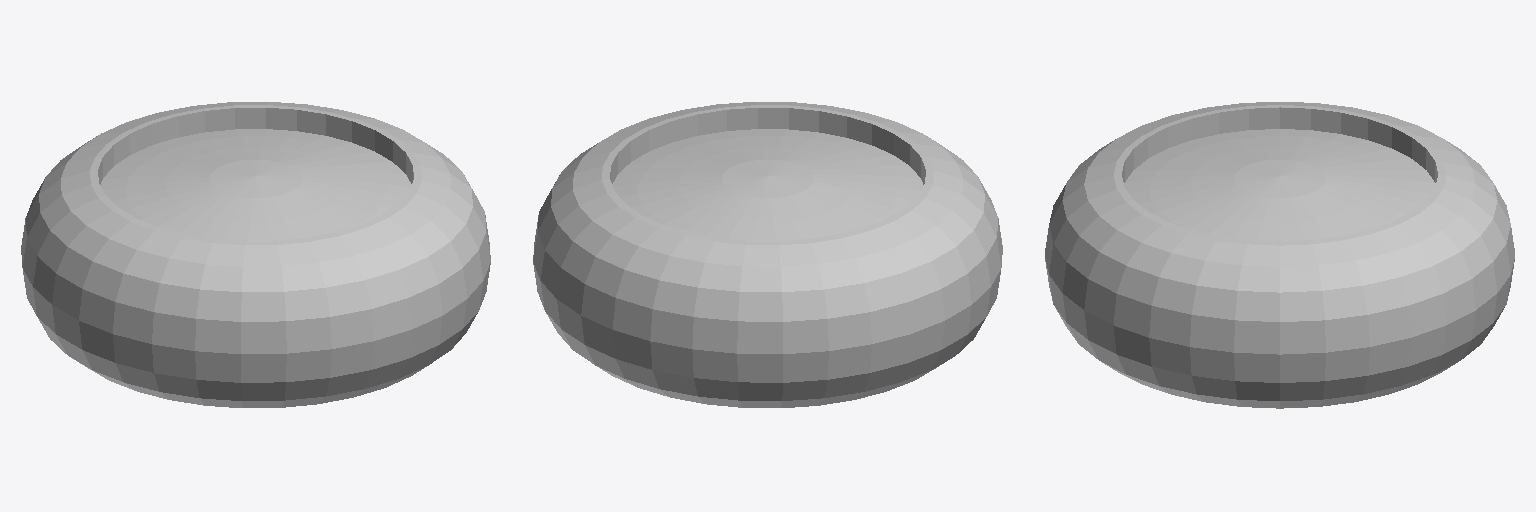
Rendered from dama.obj.
The picture shows the model from 3 angles: view 1: azimuth 30°, elevation 25°; view 2: azimuth 150°, elevation 25°; view 3: azimuth 270°, elevation 25°; orthographic projection.
Visible parts, largest first — view 1: Sphere; view 2: Sphere; view 3: Sphere.
Part boxes in pixels (bbox=[...]): Sphere: bbox=[21, 102, 490, 407]; Sphere: bbox=[533, 102, 1002, 407]; Sphere: bbox=[1045, 102, 1514, 408].
Size of the model in its own units: 0.72 by 0.2753 by 0.72.